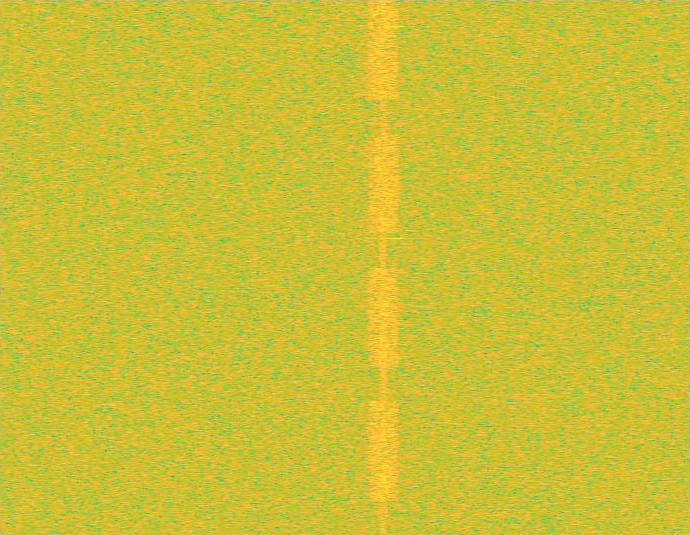5G: (366, 0, 401, 534)
DSSS: (379, 0, 387, 534)
Radar: (387, 0, 401, 534)
